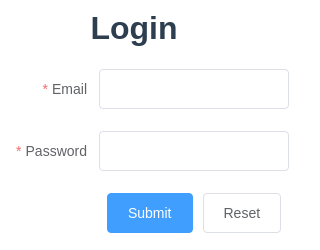
Test case: Test login page › Tests reset button
Type "Hellow" into the field with test id "email".
click(194, 89); type("Hellow")  # box [99,69,289,109]
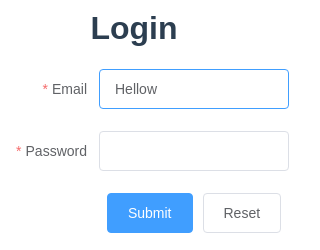
Type "123456" into the password field with test id "password".
click(194, 151); type("123456")  # box [99,131,289,171]
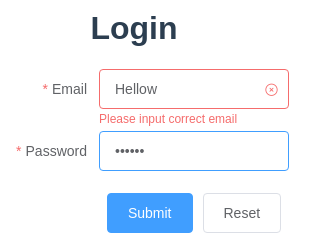
Click the button with test id "reset".
click(243, 213)  # box [203,193,282,233]
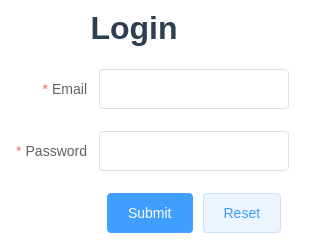
Expected: the field with test id "email" is empty, [99,69,289,109]
Expected: the password field with test id "password" is empty, [99,131,289,171]
